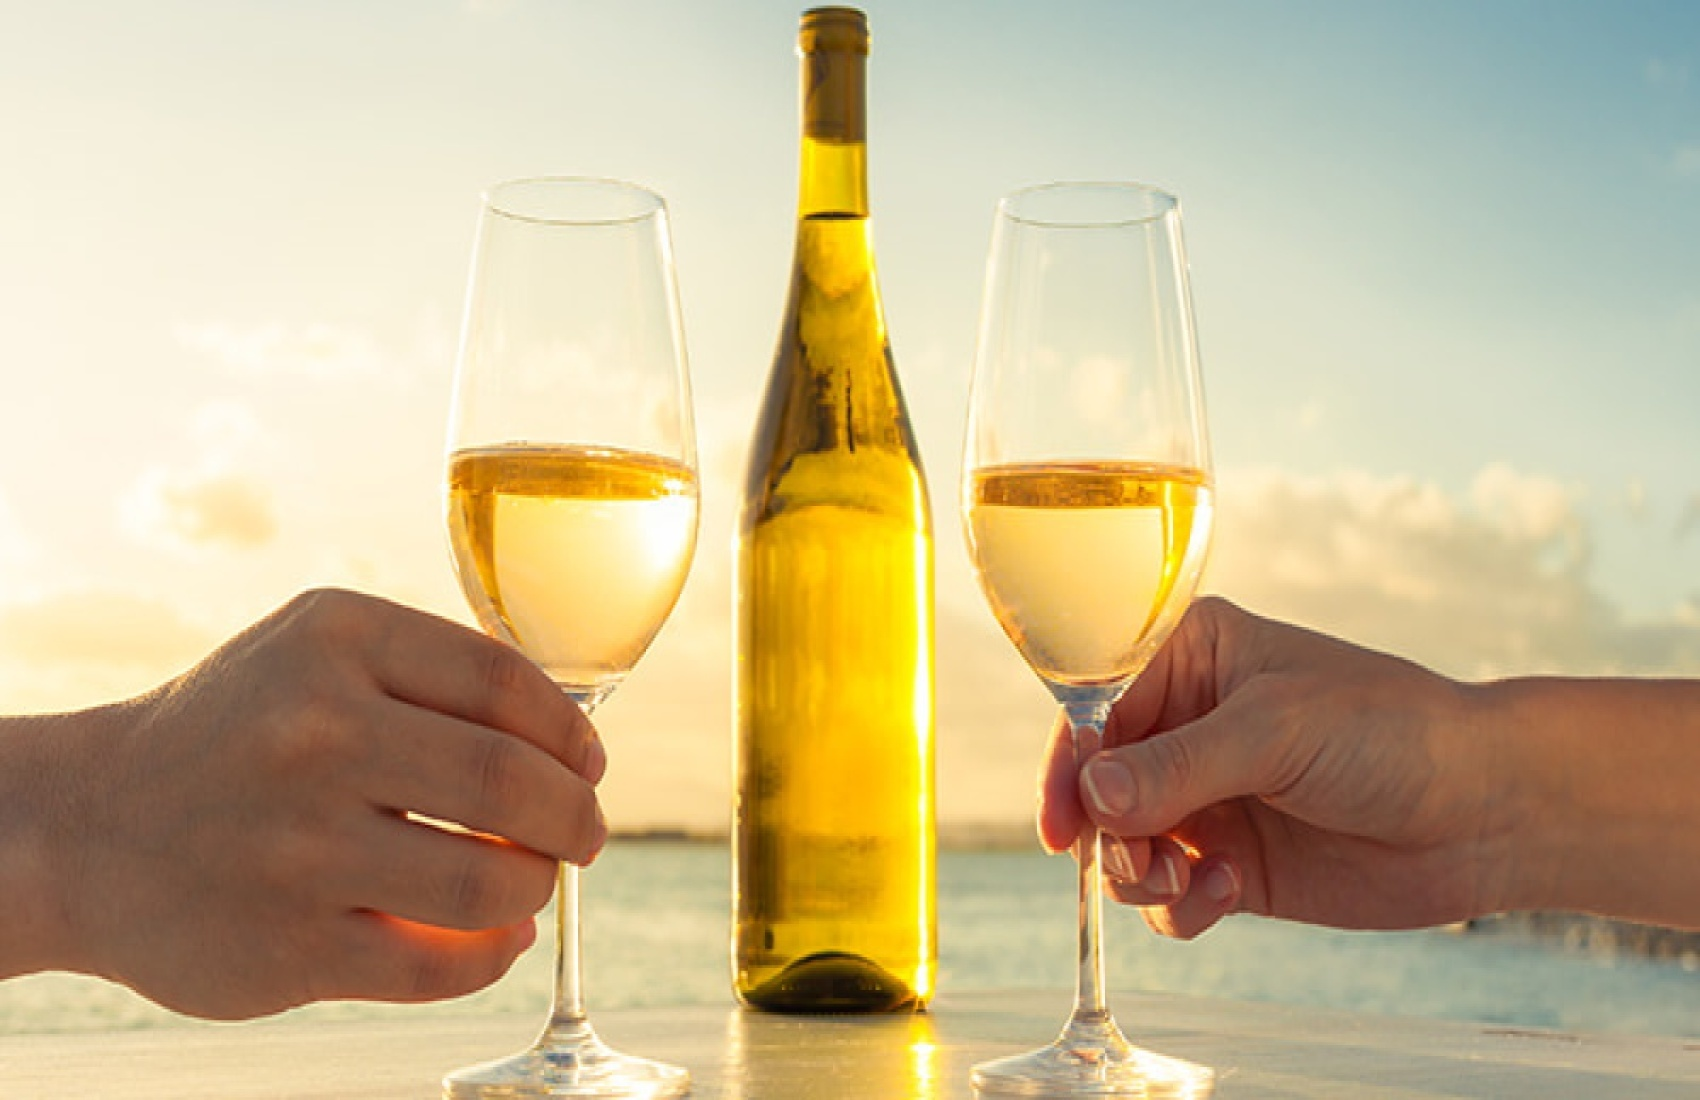wine: (734, 9, 935, 1010)
